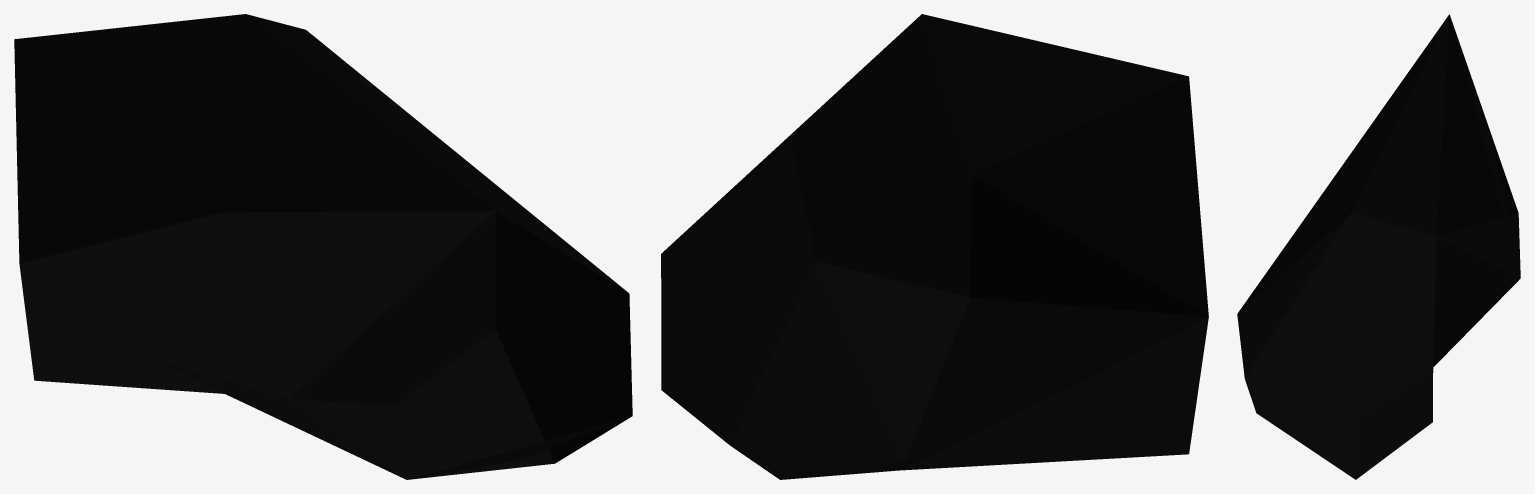
3 views of the same model, side by side, from view 1: azimuth 30°, elevation 25°; view 2: azimuth 150°, elevation 25°; view 3: azimuth 270°, elevation 25° (orthographic). The views are drawn at different scales.
Bounding box in the file's own units: 0.3615 × 0.3501 × 0.2839.
Materials: 1 (1 with a texture image).
